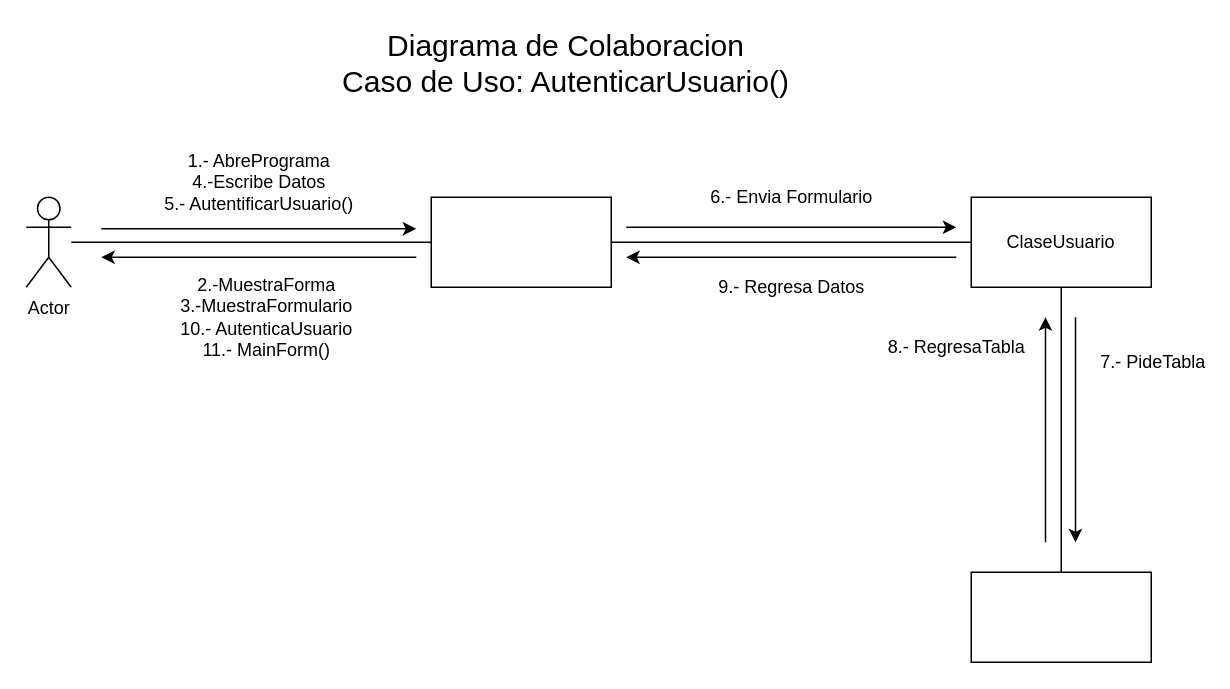
The diagram is 1230 pixels wide and 689 high, and some of its shapes have lost their labels. Here are the shapes that lost their labels. From the top down, the centre of each, then its label:
At pixel 520 241: "LoginForm()".
At pixel 1060 616: "BaseDatos".
